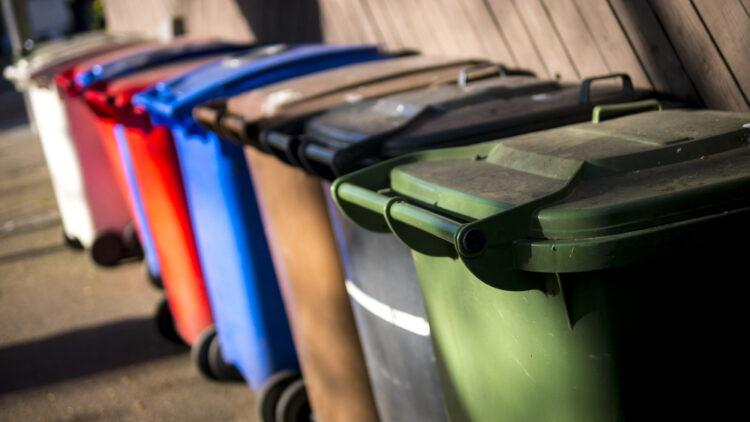trash bin: (251, 60, 696, 422), (328, 94, 749, 422), (188, 57, 510, 422), (132, 44, 424, 422), (80, 54, 251, 384), (2, 30, 144, 265)
